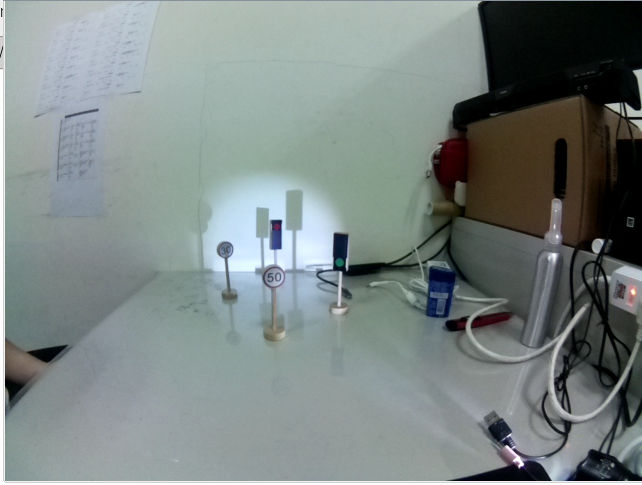Green: (331, 232, 350, 274)
Red: (267, 220, 283, 252)
Speed30: (216, 239, 237, 260)
Speed50: (260, 262, 287, 290)
